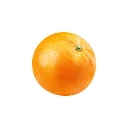orange: (33, 30, 97, 95)
